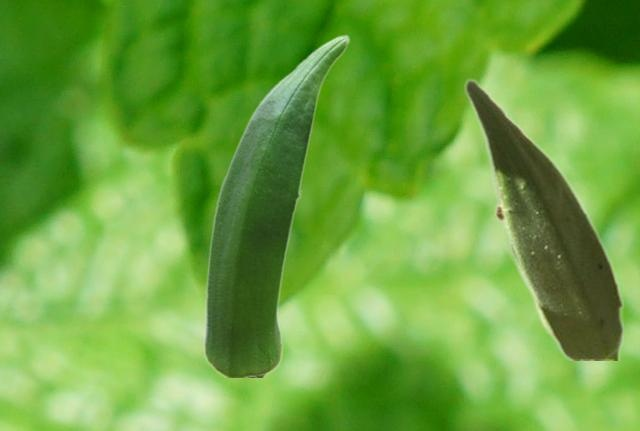okra: (202, 34, 349, 376), (463, 77, 622, 359)
